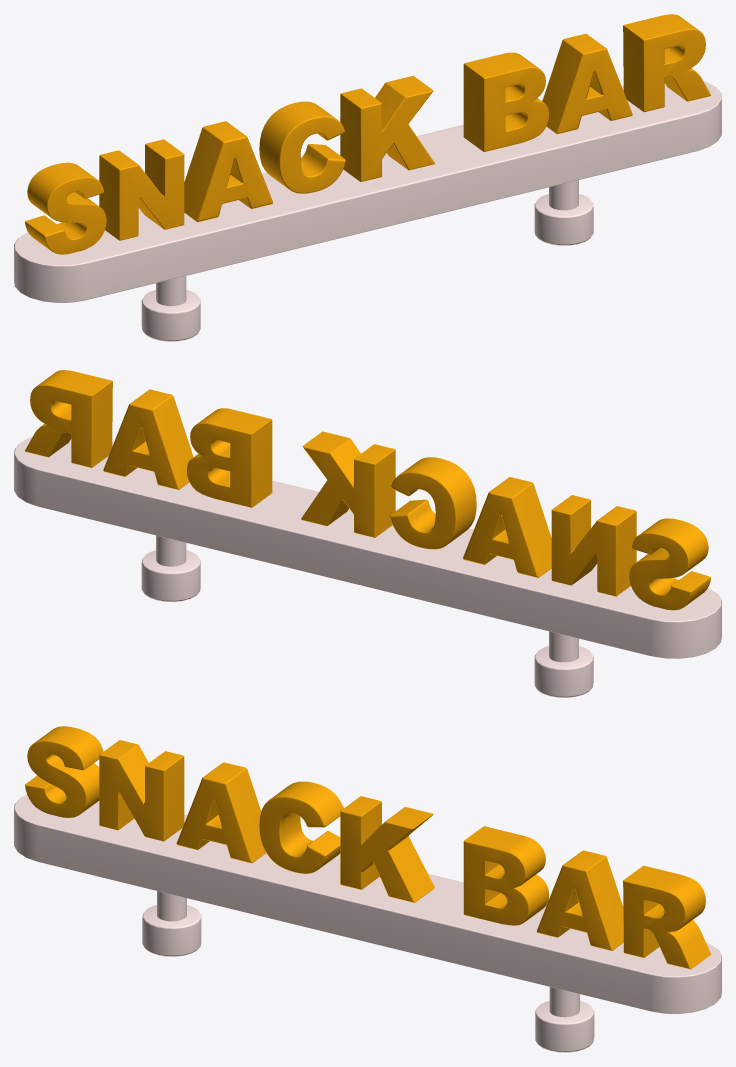
Rendered from Store_18_Snack_Bar_Sign_2.glb.
3 views of the same model, one above another, from view 1: azimuth 30°, elevation 25°; view 2: azimuth 150°, elevation 25°; view 3: azimuth 330°, elevation 25° (orthographic).
Visible parts, largest first — view 1: Store_18_Snack_Bar_Sign_2; view 2: Store_18_Snack_Bar_Sign_2; view 3: Store_18_Snack_Bar_Sign_2.
Part boxes in pixels (bbox=[...]): Store_18_Snack_Bar_Sign_2: bbox=[14, 14, 721, 341]; Store_18_Snack_Bar_Sign_2: bbox=[14, 370, 721, 697]; Store_18_Snack_Bar_Sign_2: bbox=[14, 726, 721, 1052].
Bounding box in the file's own units: 4.76 × 1.23 × 0.5684.
1 material, 1 textured.
